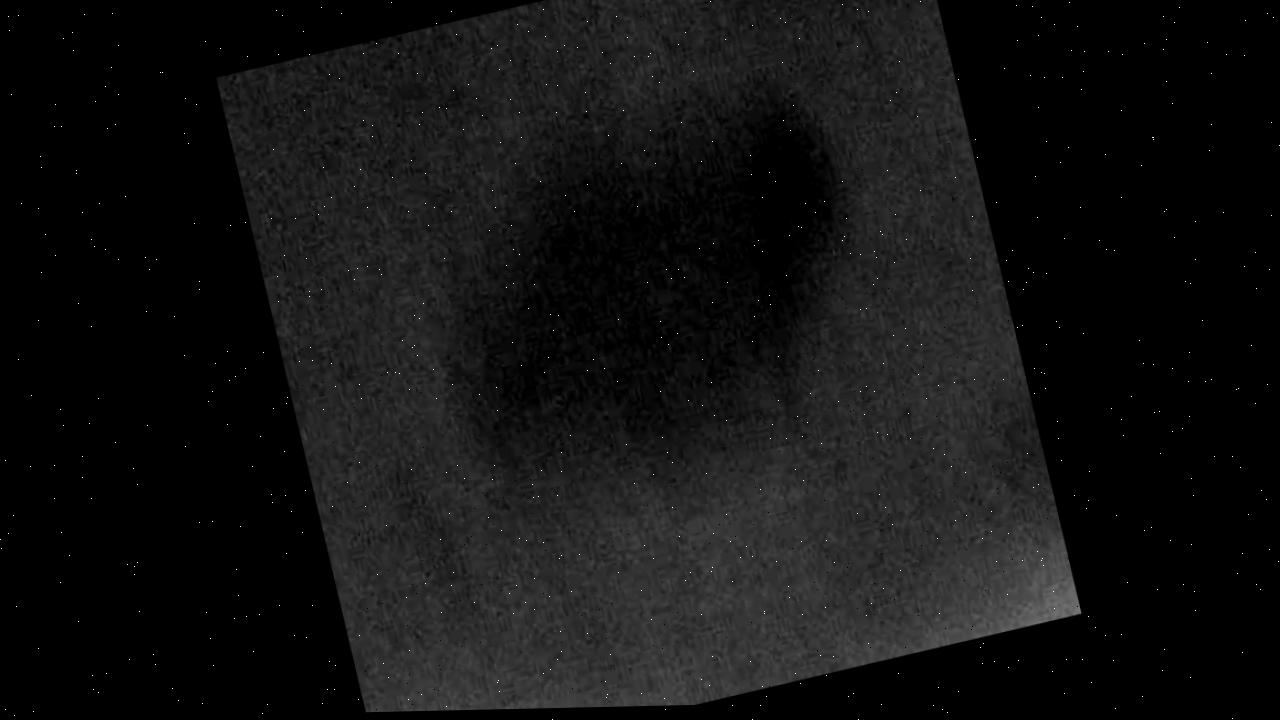drinks Stains: (384, 75, 902, 512)
